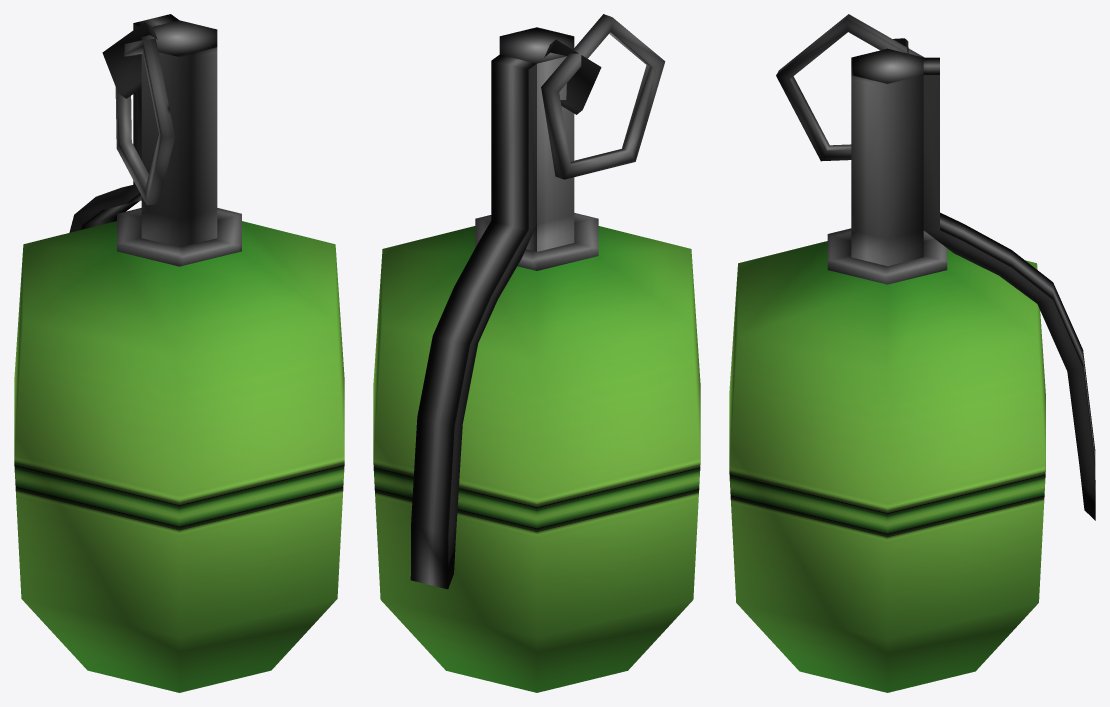
File: gren2.glb
3 renders of one model, left to right at view 1: azimuth 30°, elevation 25°; view 2: azimuth 150°, elevation 25°; view 3: azimuth 270°, elevation 25°, orthographic. The views are drawn at different scales.
Visible parts, largest first — view 1: body; view 2: body; view 3: body.
Boxes of the visible parts, <box> form: body: <box>14,14,344,692</box>; body: <box>373,14,700,692</box>; body: <box>729,14,1095,692</box>.
Size of the model in its own units: 0.0625 by 0.1151 by 0.0626.
1 material, 1 textured.
